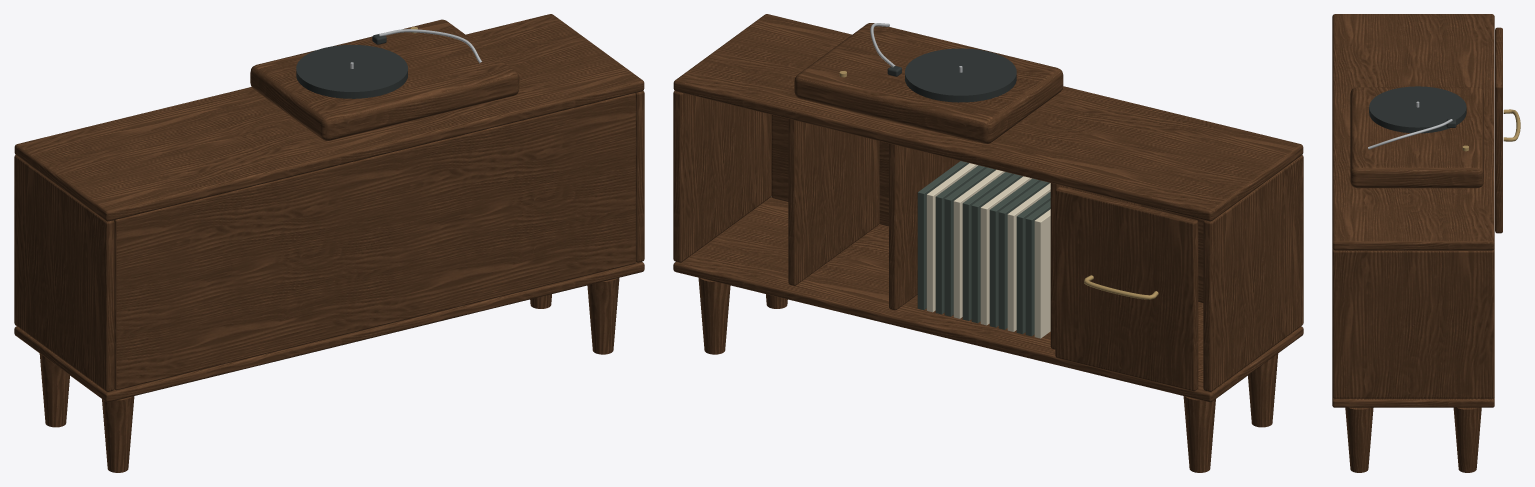
Rendered from residential-record-console.glb.
3 views of the same model, side by side, from view 1: azimuth 30°, elevation 25°; view 2: azimuth 150°, elevation 25°; view 3: azimuth 270°, elevation 25° (orthographic). The views are drawn at different scales.
Visible parts, largest first — view 1: walnut_surfaces, graphite_surfaces; view 2: walnut_surfaces, book_surfaces, paper_surfaces, graphite_surfaces; view 3: walnut_surfaces, graphite_surfaces, steel_surfaces, bronze_surfaces.
Part boxes in pixels (x1,y1,x2,y2): walnut_surfaces: (14, 14, 644, 472); graphite_surfaces: (296, 34, 407, 98); walnut_surfaces: (673, 14, 1303, 472); book_surfaces: (917, 161, 1050, 336); paper_surfaces: (926, 163, 1050, 338); graphite_surfaces: (887, 48, 1016, 102); walnut_surfaces: (1332, 14, 1502, 472); graphite_surfaces: (1369, 86, 1466, 133); steel_surfaces: (1368, 101, 1452, 149); bronze_surfaces: (1462, 109, 1520, 151).
Size of the model in its own units: 1.5 by 0.8648 by 0.5217.
Materials: 6 (1 with a texture image).
